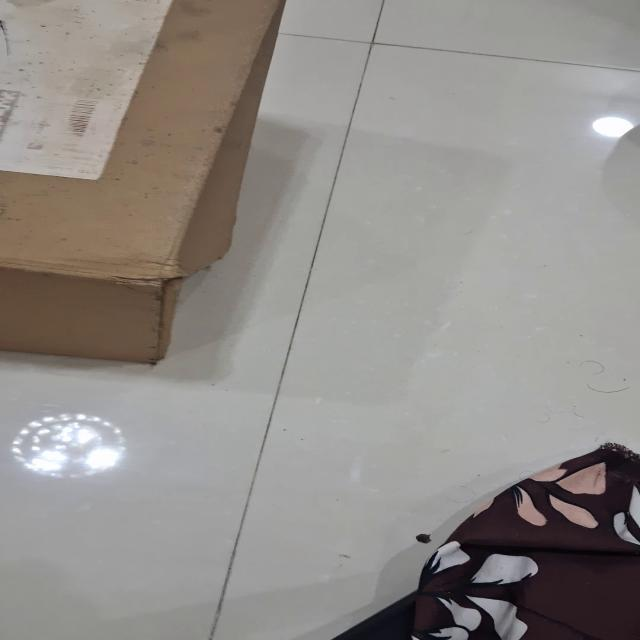paper: (1, 1, 172, 180)
